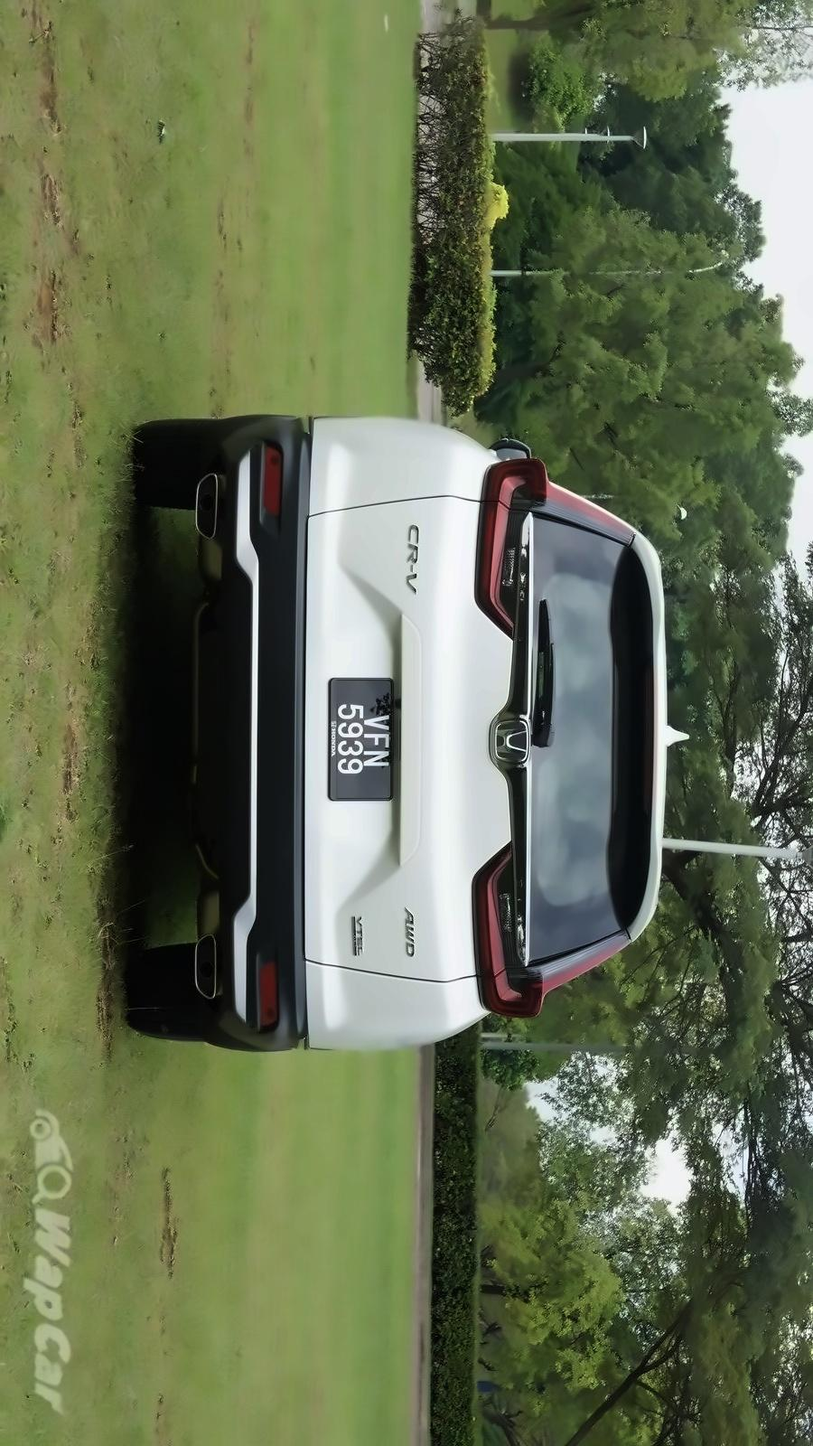Car boot: (298, 486, 679, 995)
Rear bumper: (179, 407, 338, 1064)
Rear light - -L-: (472, 450, 551, 642)
Rear light - -R-: (468, 836, 543, 1018)
